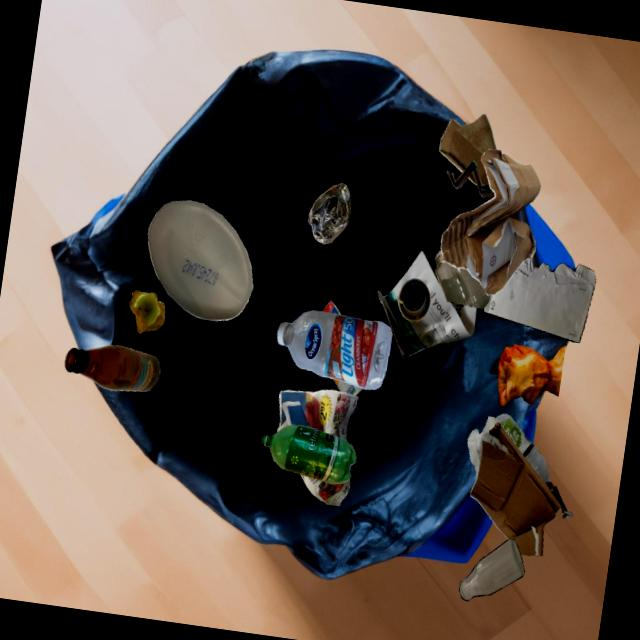biowaste: (498, 344, 566, 407), (129, 290, 165, 334)
cardboard: (440, 149, 541, 295), (468, 416, 573, 556), (439, 114, 497, 185), (447, 161, 495, 198), (333, 379, 362, 396), (322, 301, 341, 315)
glass: (64, 345, 160, 392), (459, 539, 525, 601), (435, 250, 490, 309), (397, 279, 431, 321)
metal: (308, 183, 350, 244)
paper: (378, 251, 476, 359), (483, 256, 596, 343), (277, 390, 346, 440), (300, 474, 350, 507)
plastic: (148, 201, 253, 321), (277, 310, 392, 390), (262, 425, 357, 484), (495, 414, 554, 490)
